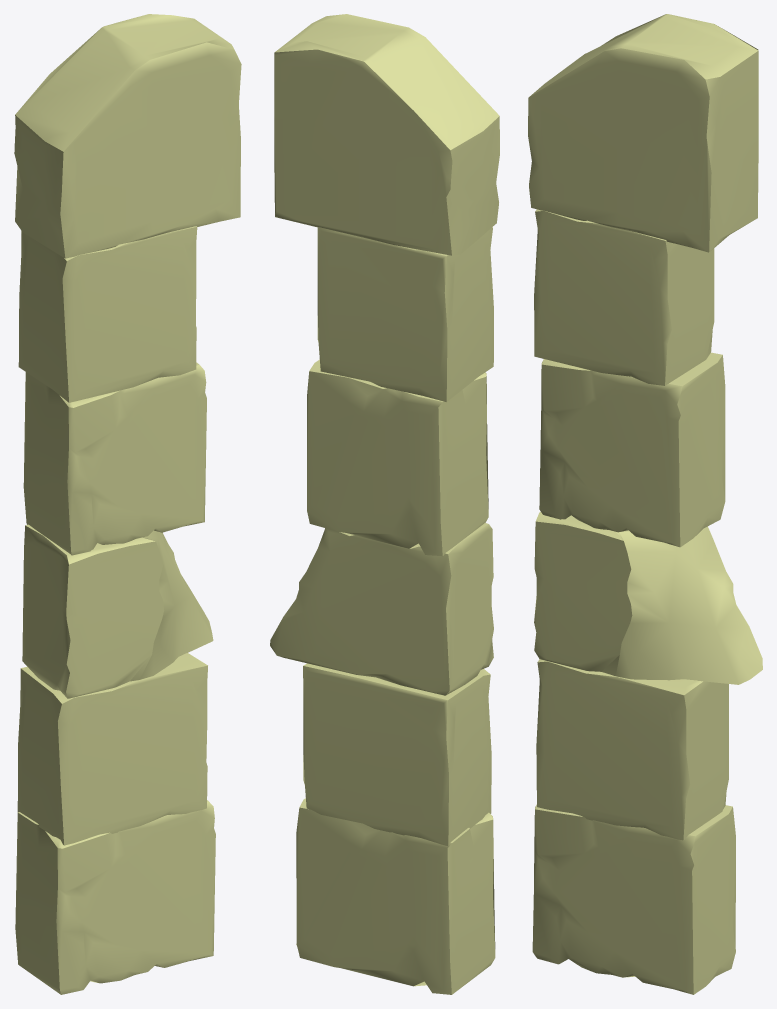
Rendered from stone_element_20_lintel_05.fbx.
3 views of the same model, side by side, from view 1: azimuth 30°, elevation 25°; view 2: azimuth 150°, elevation 25°; view 3: azimuth 330°, elevation 25° (orthographic). The views are drawn at different scales.
Parts seen in each view (by area): view 1: stone_element_20_lintel_05_LOD0; view 2: stone_element_20_lintel_05_LOD0; view 3: stone_element_20_lintel_05_LOD0.
Boxes of the visible parts, x1,y1,x2,y2 form: stone_element_20_lintel_05_LOD0: (14,14,241,994); stone_element_20_lintel_05_LOD0: (270,14,499,994); stone_element_20_lintel_05_LOD0: (528,14,762,994).
Size of what is drawn, in the model's own units: 71.91 by 333 by 33.02.
